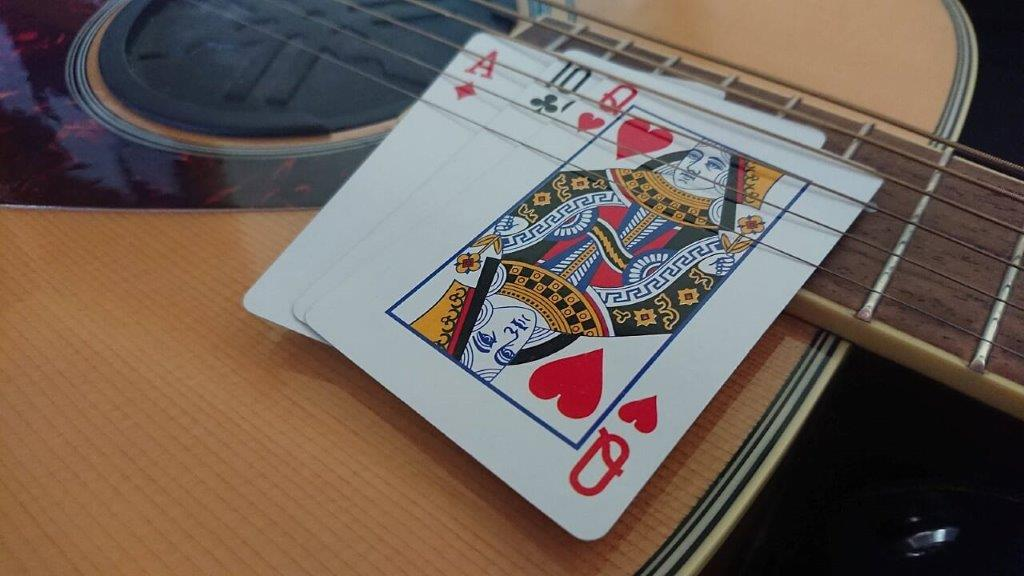10C: (526, 54, 597, 116)
AD: (449, 43, 506, 114)
QH: (576, 83, 643, 142)
